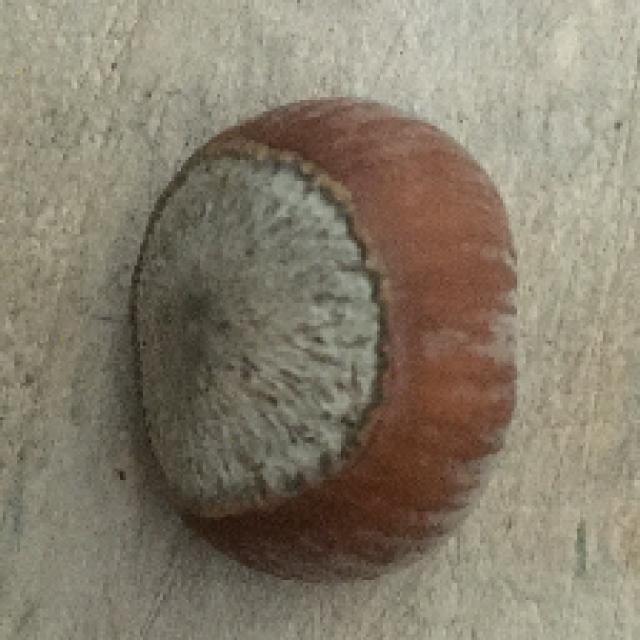QualityHazelnut: (125, 94, 528, 590)
